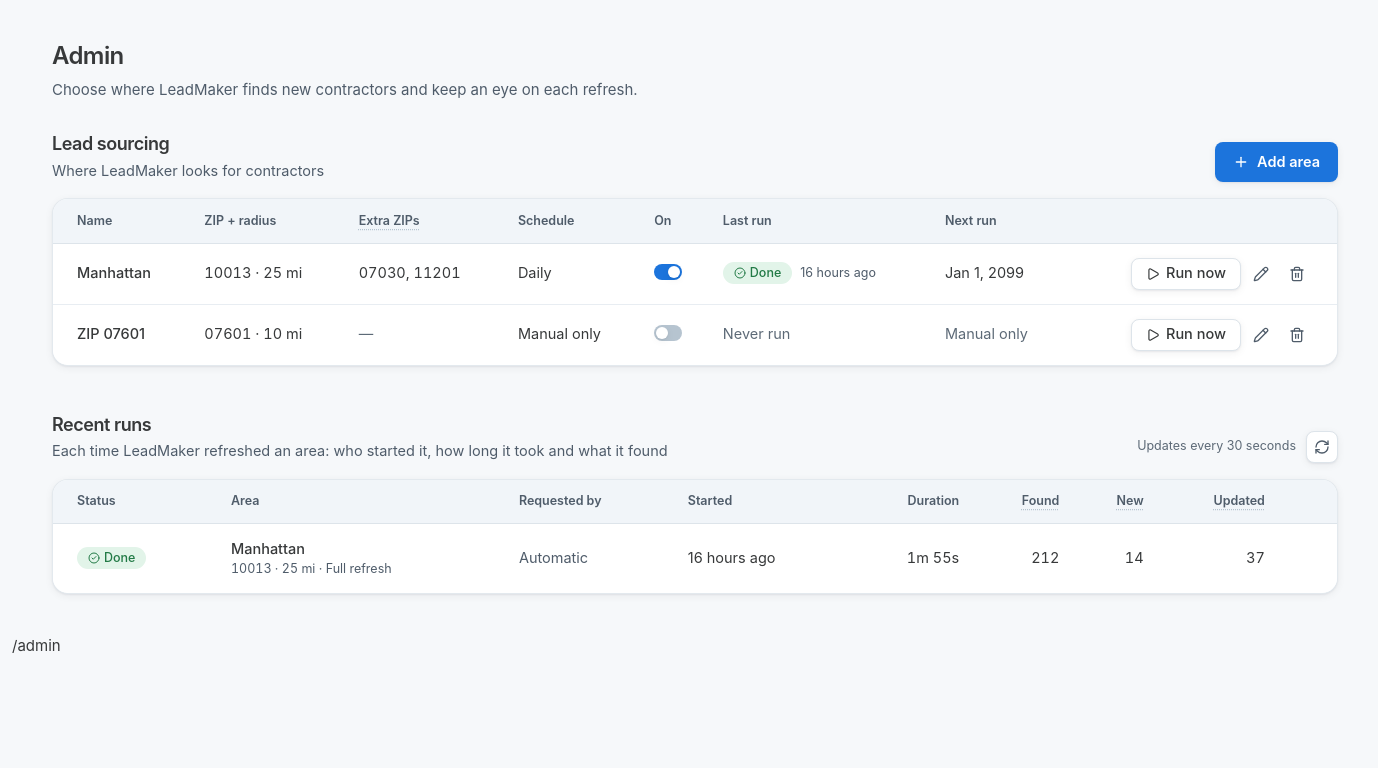
Test: AdminPage › Run now shows Queued, then the live status of that run
expect the cell "Manhattan" is shown: met, box x1=53 y1=243 x2=190 y2=304
What coordinates should you click on to do the following:
click the button with aria-label "Run now: Manhattan"
I would click on:
 (1186, 274)
Its box is x1=1131 y1=258 x2=1241 y2=290.
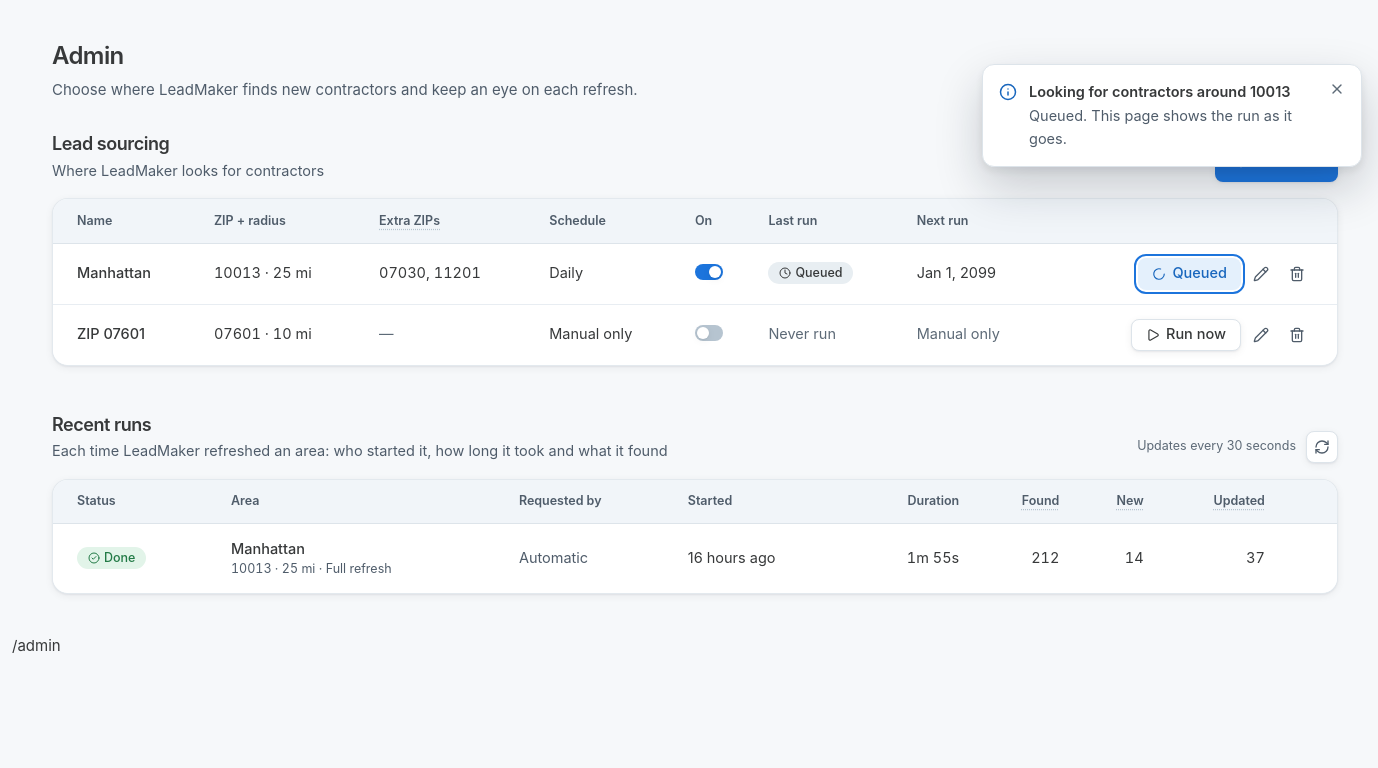
expect the button with aria-label "Manhattan: Queued" is disabled: met
What coordinates should you click on to do the following:
click the button with aria-label "Manhattan: Queued"
I would click on:
 (1190, 274)
Its box is x1=1138 y1=258 x2=1241 y2=290.
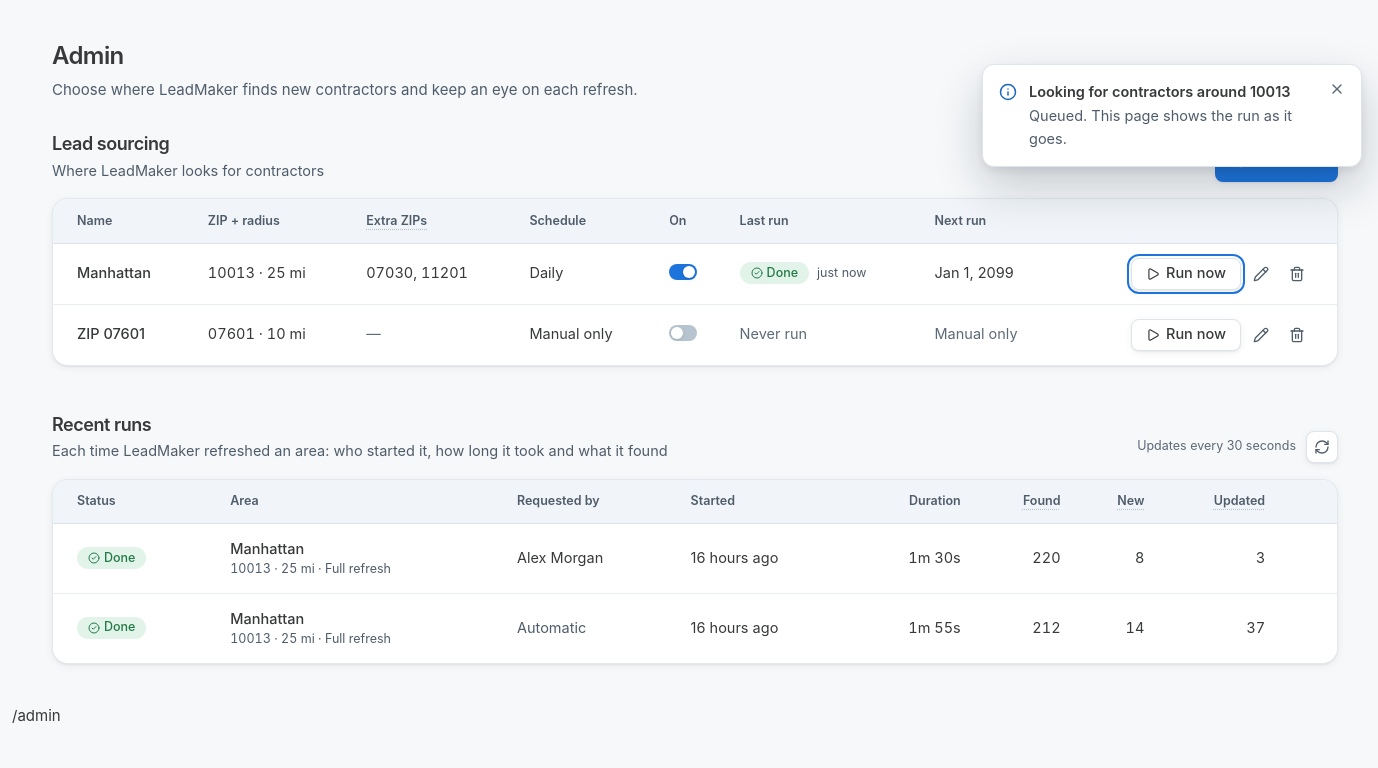
expect the button with aria-label "Run now: Manhattan" is shown: met, box x1=1131 y1=258 x2=1241 y2=290
expect the text "Done" next to "just now" is shown: met, box x1=767 y1=265 x2=798 y2=280
expect the text "220" is shown: met, box x1=975 y1=524 x2=1075 y2=593
